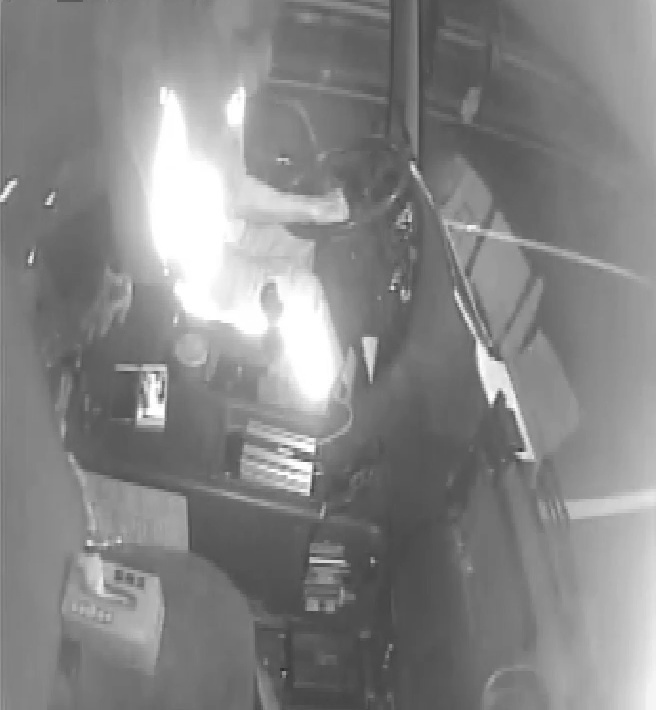cellphone: (135, 360, 171, 433)
